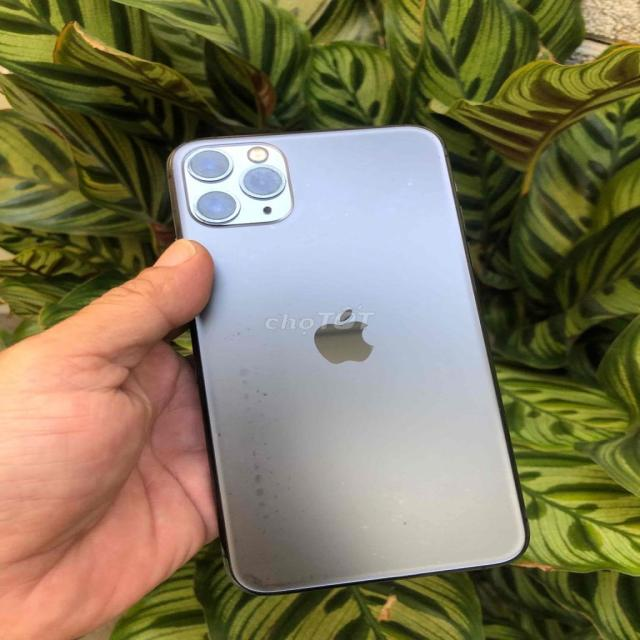gen_11: (168, 126, 528, 594)
